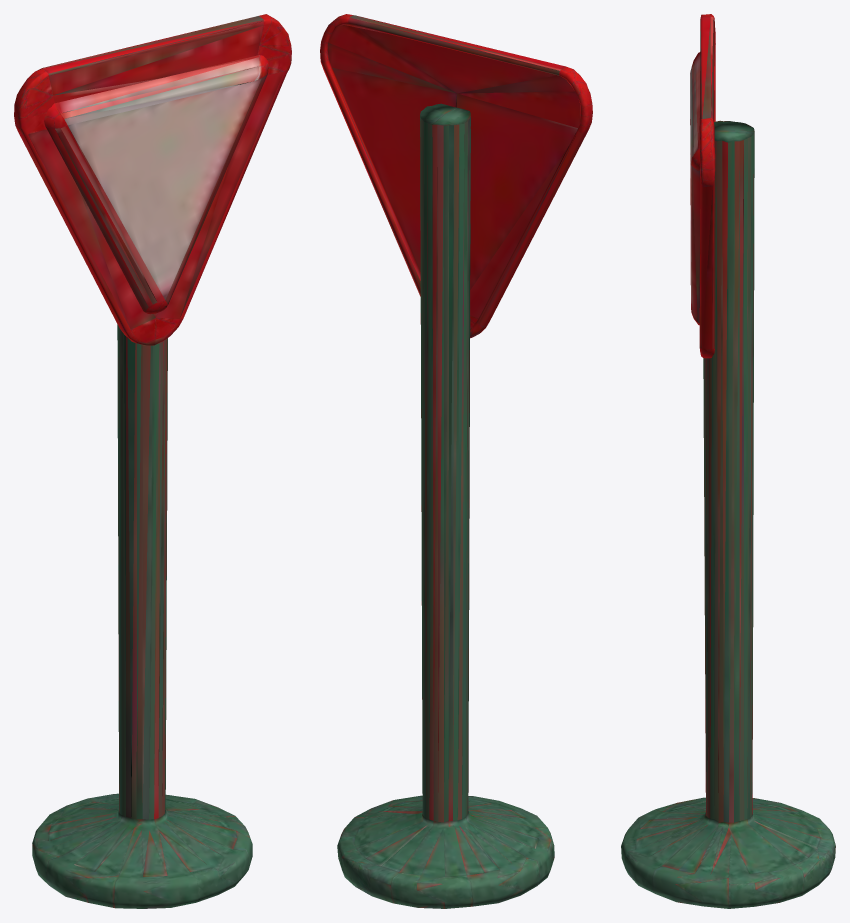
File: give-way.glb
3 renders of one model, left to right at view 1: azimuth 30°, elevation 25°; view 2: azimuth 150°, elevation 25°; view 3: azimuth 270°, elevation 25°, orthographic. The views are drawn at different scales.
Visible parts, largest first — view 1: geometry_0; view 2: geometry_0; view 3: geometry_0.
Part boxes in pixels (x1,y1,x2,y2): geometry_0: (14, 14, 291, 908); geometry_0: (320, 14, 592, 908); geometry_0: (621, 14, 835, 908).
Bounding box in the file's own units: 0.3438 × 1 × 0.2438.
Materials: 1 (1 with a texture image).
